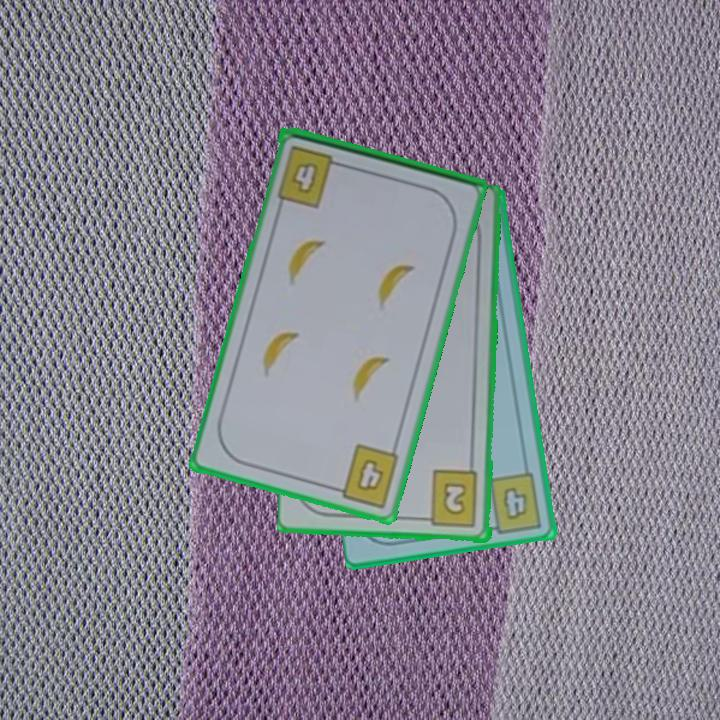2b: (418, 468, 481, 530)
4b: (328, 440, 402, 511), (274, 142, 347, 211), (483, 469, 545, 536)
